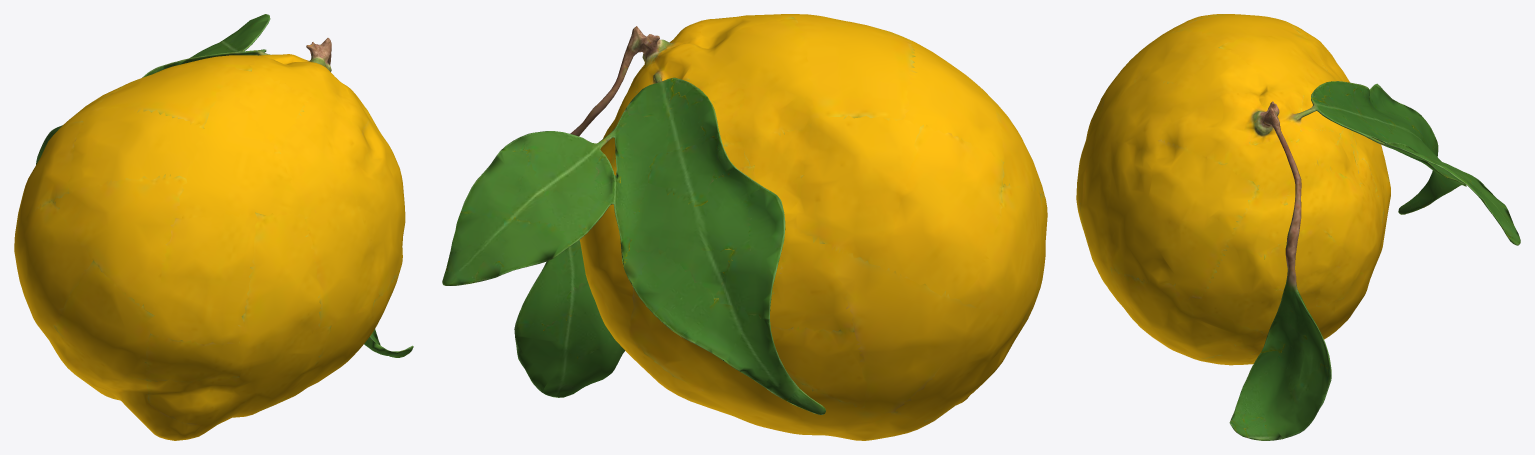
File: Lemon.glb
The picture shows the model from 3 angles, left to right: view 1: azimuth 30°, elevation 25°; view 2: azimuth 150°, elevation 25°; view 3: azimuth 270°, elevation 25°; orthographic projection. The views are drawn at different scales.
Parts seen in each view (by area): view 1: mesh_node; view 2: mesh_node; view 3: mesh_node.
Part boxes in pixels (left/top/right/bottom): mesh_node: left=14, top=14, right=413, bottom=440; mesh_node: left=442, top=14, right=1047, bottom=440; mesh_node: left=1076, top=14, right=1520, bottom=440.
Size of the model in its own units: 1.78 by 1.51 by 1.9.
Materials: 1 (1 with a texture image).
